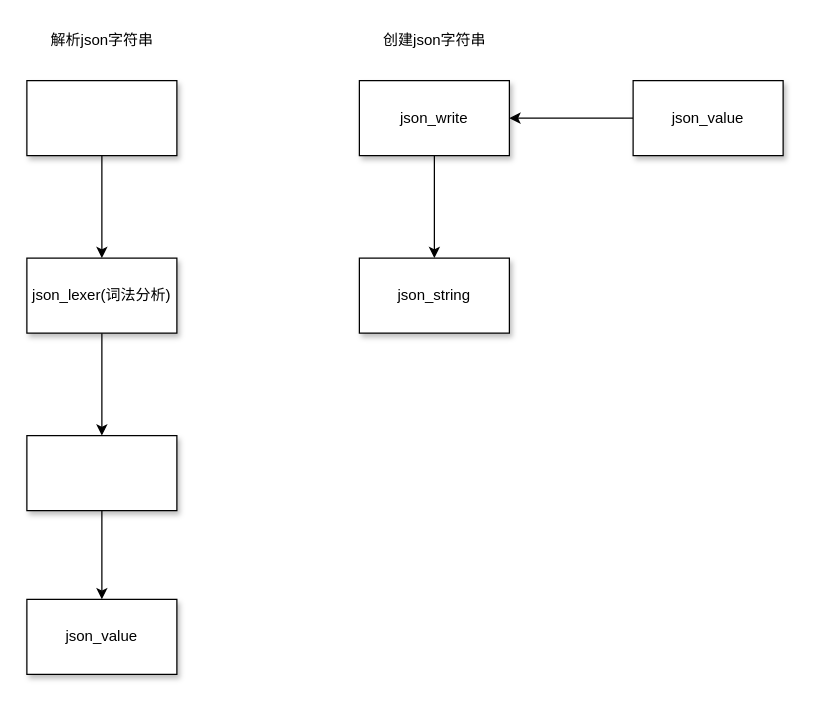
The diagram is 813 pixels wide and 705 high, and some of its shapes have lost their labels. Each missing label, with the centre of its shape:
"json_parser(解析器)" belongs at (102,474).
"json_read" belongs at (102,119).
